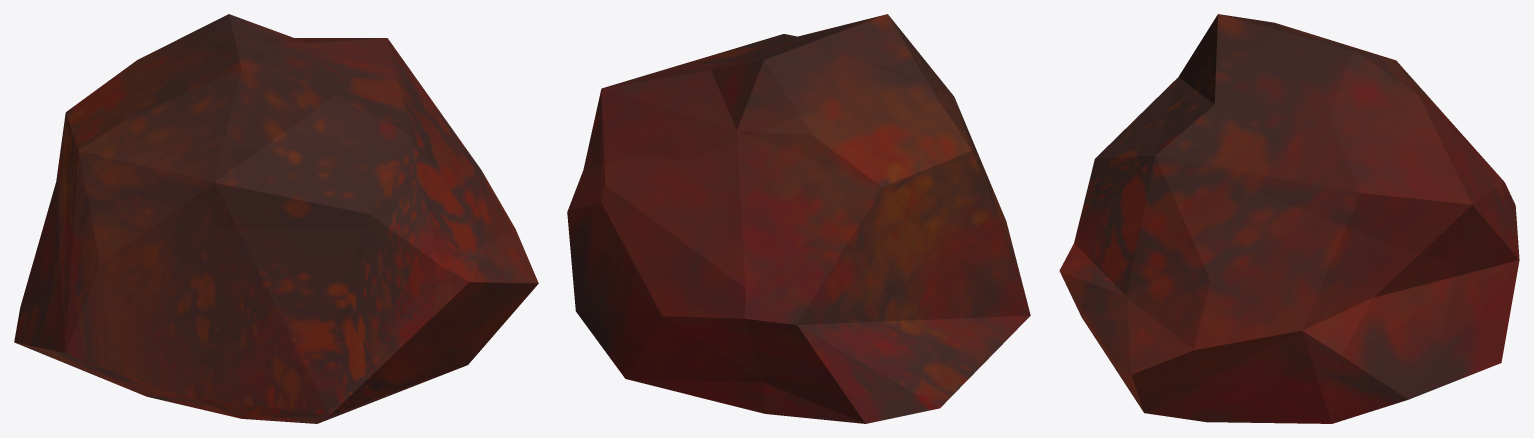
Rendered from Magma_ball.obj.
3 renders of one model, left to right at view 1: azimuth 30°, elevation 25°; view 2: azimuth 150°, elevation 25°; view 3: azimuth 270°, elevation 25°, orthographic.
Parts seen in each view (by area): view 1: bola_de_fuego; view 2: bola_de_fuego; view 3: bola_de_fuego.
Part boxes in pixels (x1,y1,x2,y2): bola_de_fuego: (14, 14, 538, 423); bola_de_fuego: (567, 14, 1030, 423); bola_de_fuego: (1059, 14, 1519, 423).
Size of the model in its own units: 2.09 by 1.65 by 1.98.
Materials: 1 (1 with a texture image).
